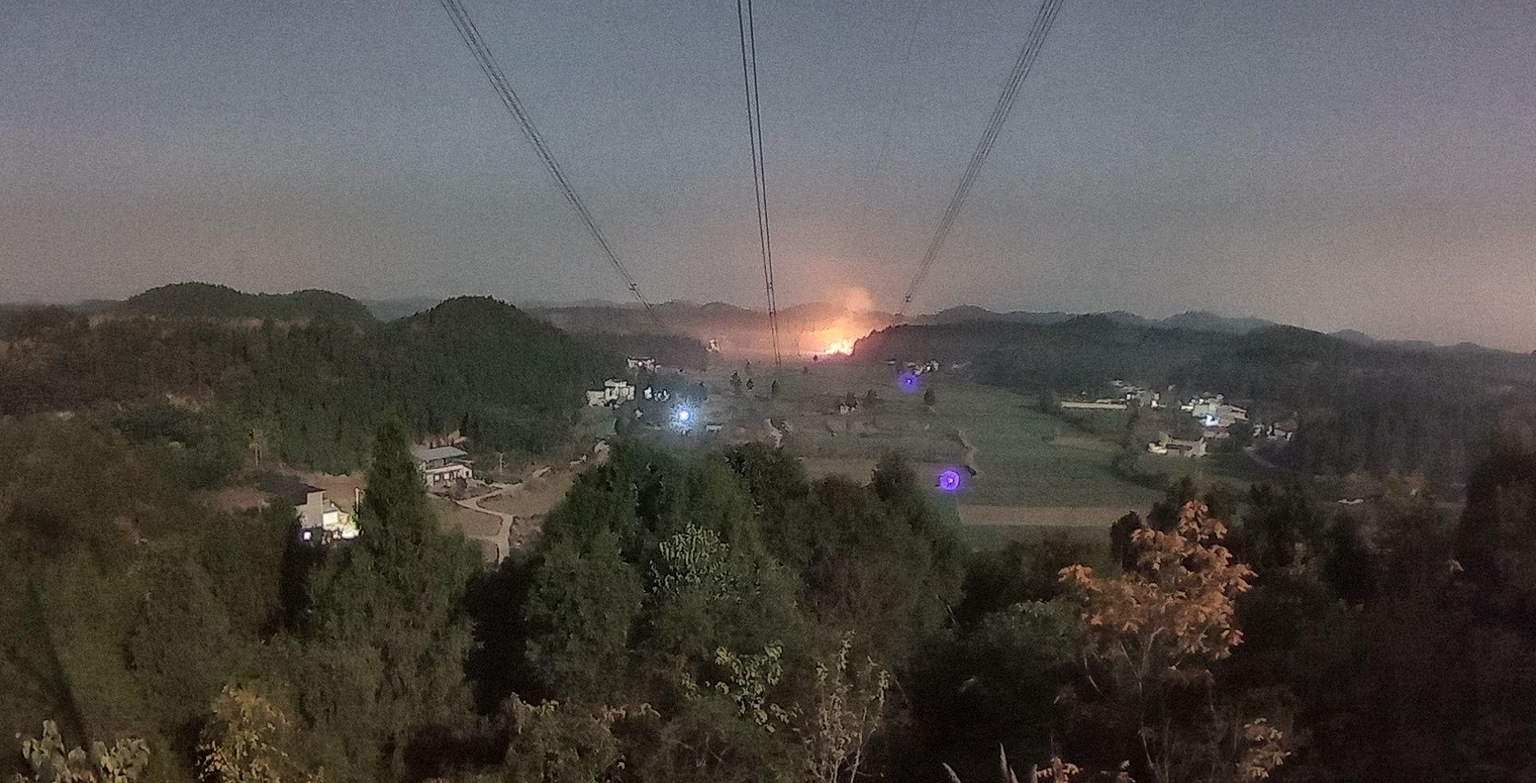山火: (823, 335, 853, 356)
烟雾: (696, 276, 875, 360)
